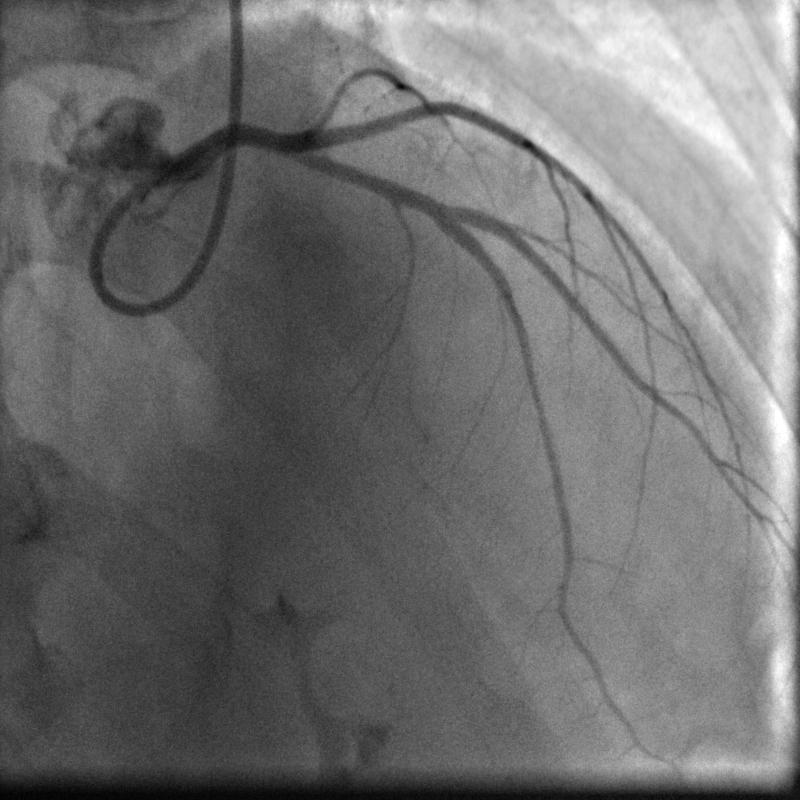Stenosis: (423, 188, 449, 225)
